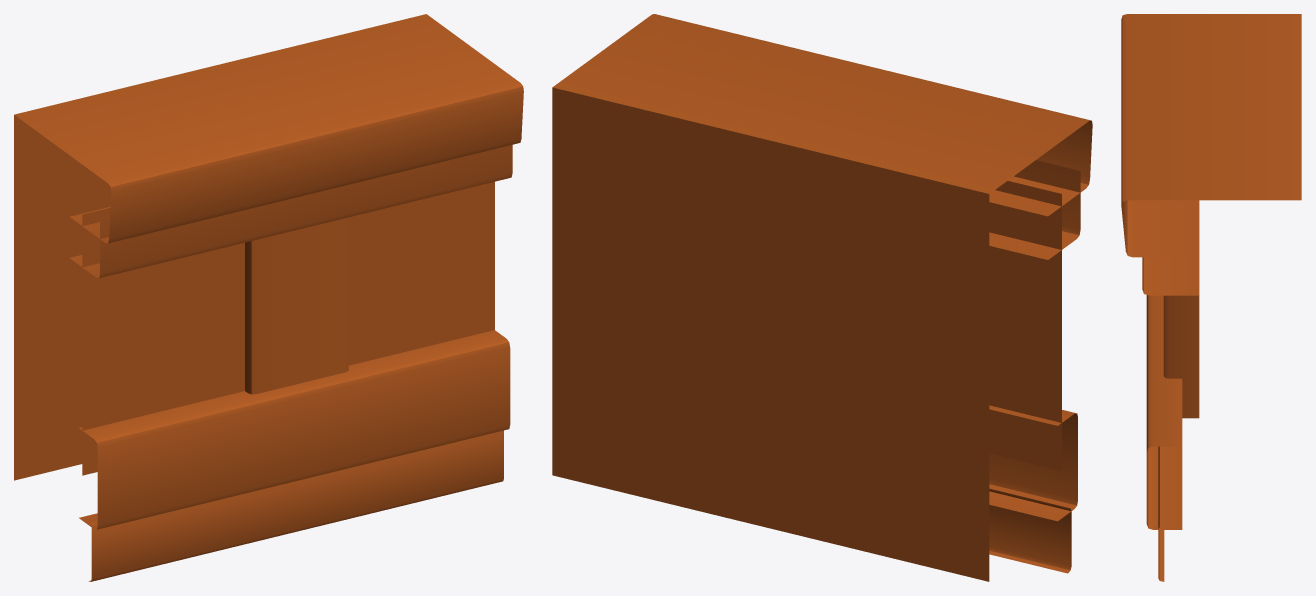
Rendered from Ev_company_Rooftop_Fence.fbx.
3 renders of one model, left to right at view 1: azimuth 30°, elevation 25°; view 2: azimuth 150°, elevation 25°; view 3: azimuth 270°, elevation 25°, orthographic. The views are drawn at different scales.
Visible parts, largest first — view 1: Company_Rooftop_ Fence; view 2: Company_Rooftop_ Fence; view 3: Company_Rooftop_ Fence.
Part boxes in pixels (x1,y1,x2,y2): Company_Rooftop_ Fence: [14, 14, 523, 581]; Company_Rooftop_ Fence: [552, 14, 1092, 581]; Company_Rooftop_ Fence: [1121, 14, 1301, 581].
Size of the model in its own units: 70 by 28.63 by 66.87.
